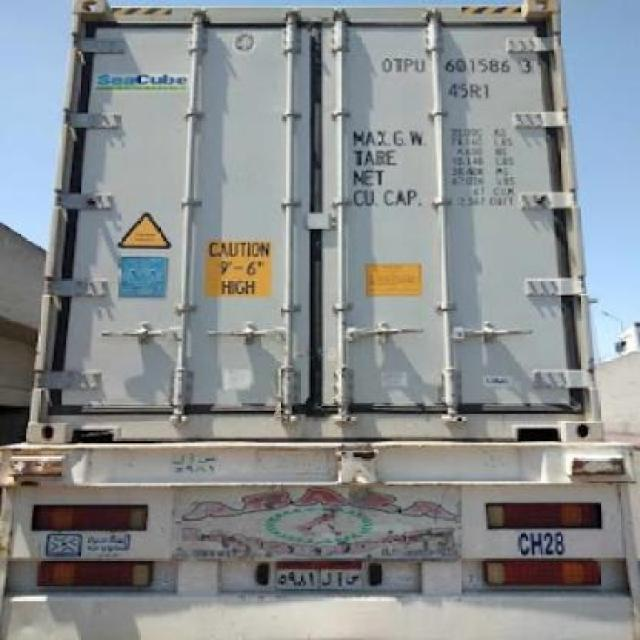ISO: (448, 78, 492, 98)
container_number: (384, 56, 534, 76)
